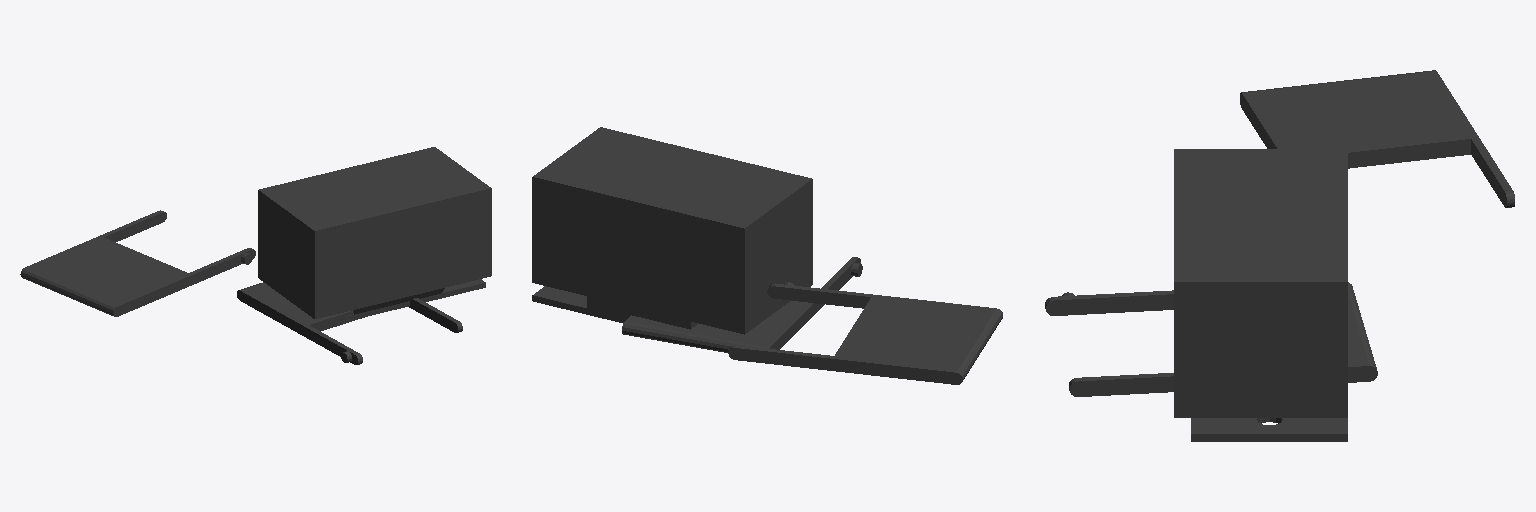
robot.urdf — simulation_assembly:
<?xml version="1.0" encoding="utf-8"?>
<!-- This URDF was automatically created by SolidWorks to URDF Exporter! Originally created by [author] ([email redacted]) 
     Commit Version: 1.5.1-0-g916b5db  Build Version: 1.5.7152.31018
     For more information, please see http://wiki.ros.org/sw_urdf_exporter -->
<robot
  name="simulation_assembly">
  <link
    name="base">
    <inertial>
      <origin
        xyz="0 2.157E-20 0.01515"
        rpy="0 0 0" />
      <mass
        value="0.033918" />
      <inertia
        ixx="1.0837E-05"
        ixy="0"
        ixz="0"
        iyy="5.1389E-06"
        iyz="0"
        izz="1.0786E-05" />
    </inertial>
    <visual>
      <origin
        xyz="0 0 0"
        rpy="0 0 0" />
      <geometry>
        <mesh
          filename="package://simulation_assembly/meshes/base.STL" />
      </geometry>
      <material
        name="">
        <color
          rgba="0.29804 0.29804 0.29804 1" />
      </material>
    </visual>
    <collision>
      <origin
        xyz="0 0 0"
        rpy="0 0 0" />
      <geometry>
        <mesh
          filename="package://simulation_assembly/meshes/base.STL" />
      </geometry>
    </collision>
  </link>
  <link
    name="right_arm">
    <inertial>
      <origin
        xyz="0.02971 0 0.01865"
        rpy="0 0 0" />
      <mass
        value="0.0039735" />
      <inertia
        ixx="5.23E-07"
        ixy="0"
        ixz="0"
        iyy="1.161E-06"
        iyz="0"
        izz="6.47E-07" />
    </inertial>
    <visual>
      <origin
        xyz="0 0 0"
        rpy="0 0 0" />
      <geometry>
        <mesh
          filename="package://simulation_assembly/meshes/right_arm.STL" />
      </geometry>
      <material
        name="">
        <color
          rgba="0.29804 0.29804 0.29804 1" />
      </material>
    </visual>
    <collision>
      <origin
        xyz="0 0 0"
        rpy="0 0 0" />
      <geometry>
        <mesh
          filename="package://simulation_assembly/meshes/right_arm.STL" />
      </geometry>
    </collision>
  </link>
  <joint
    name="right_join"
    type="revolute">
    <origin
      xyz="-0.0015 -0.0212 0.001"
      rpy="0 0 -1.4465" />
    <parent
      link="base" />
    <child
      link="right_arm" />
    <axis
      xyz="0 0 -1" />
    <limit
      lower="-1.7"
      upper="1.7"
      effort="0.045"
      velocity="6" />
  </joint>
  <link
    name="left_arm">
    <inertial>
      <origin
        xyz="0.02971 0 0.01865"
        rpy="0 0 0" />
      <mass
        value="0.0039735" />
      <inertia
        ixx="5.23E-07"
        ixy="0"
        ixz="0"
        iyy="1.161E-06"
        iyz="0"
        izz="6.47E-07" />
    </inertial>
    <visual>
      <origin
        xyz="0 0 0"
        rpy="0 0 0" />
      <geometry>
        <mesh
          filename="package://simulation_assembly/meshes/left_arm.STL" />
      </geometry>
      <material
        name="">
        <color
          rgba="0.29804 0.29804 0.29804 1" />
      </material>
    </visual>
    <collision>
      <origin
        xyz="0 0 0"
        rpy="0 0 0" />
      <geometry>
        <mesh
          filename="package://simulation_assembly/meshes/left_arm.STL" />
      </geometry>
    </collision>
  </link>
  <joint
    name="left_join"
    type="revolute">
    <origin
      xyz="-0.0015 0.0212 0.001"
      rpy="0 0 0.2635" />
    <parent
      link="base" />
    <child
      link="left_arm" />
    <axis
      xyz="0 0 -1" />
    <limit
      lower="-1.7"
      upper="1.7"
      effort="0.045"
      velocity="6" />
  </joint>
</robot>

--- Facts derived from the render (not from the file) ---
3 views of the same robot in one strip: view 1: azimuth 30°, elevation 25°; view 2: azimuth 150°, elevation 25°; view 3: azimuth 270°, elevation 25° (orthographic).
Robot: simulation_assembly — 3 links, 2 joints (2 revolute); root link base; default pose: every joint at zero.
Links seen in each view (by area): view 1: base, left_arm, right_arm; view 2: base, left_arm, right_arm; view 3: base, left_arm, right_arm.
Boxes of the visible links, box(x1,y1,x2,y2) form: base: box(258, 147, 491, 321); left_arm: box(20, 210, 255, 316); right_arm: box(237, 282, 462, 364); base: box(532, 127, 812, 334); left_arm: box(728, 282, 1002, 384); right_arm: box(622, 257, 862, 352); base: box(1174, 149, 1347, 441); left_arm: box(1240, 70, 1514, 207); right_arm: box(1045, 282, 1377, 396).
Bounding box of the posed robot: 0.1181 × 0.081 × 0.0308 m (x, y, z).
3 mesh visuals loaded from 3 distinct referenced files (3 binary STL).